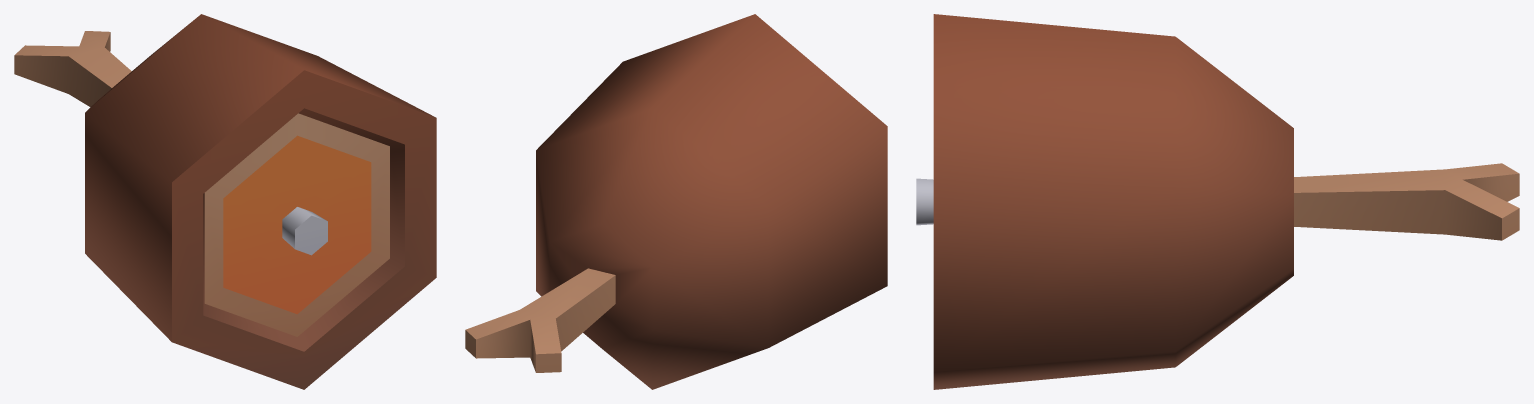
Rendered from whole-ham.glb.
The picture shows the model from 3 angles, left to right: view 1: azimuth 30°, elevation 25°; view 2: azimuth 150°, elevation 25°; view 3: azimuth 270°, elevation 25°; orthographic projection. The views are drawn at different scales.
Visible parts, largest first — view 1: whole-ham; view 2: whole-ham; view 3: whole-ham.
Boxes of the visible parts, x1,y1,x2,y2 form: whole-ham: [14, 14, 436, 389]; whole-ham: [465, 14, 887, 389]; whole-ham: [916, 14, 1519, 389].
Bounding box in the file's own units: 0.3809 × 0.4399 × 0.6397.
